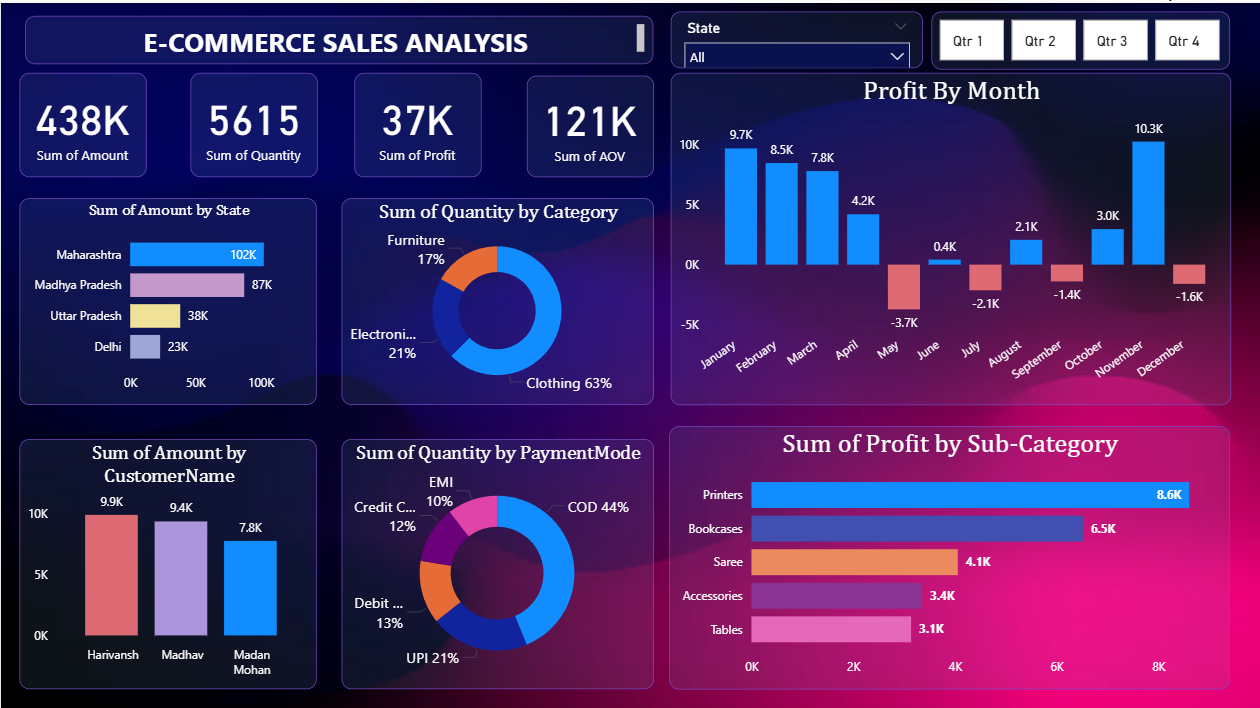

What the dashboard file says about the page in this screenshot:
{"tool":"powerbi","page":{"name":"Page 1","canvas":[1280,720],"ordinal":0},"visuals":[{"type":"textbox","box":[24.7,12.3,638.1,49.4],"z":0},{"type":"columnChart","title":"Profit By Month","fields":{"Category":["Orders.Order Date.Variation.Date Hierarchy.Month"],"Y":["Sum(Details.Profit)"]},"box":[680.6,71.4,569.5,337.6],"z":1000},{"type":"barChart","fields":{"Category":["Details.Sub-Category"],"Y":["Sum(Details.Profit)"]},"box":[679.2,429.5,569.5,267.6],"z":2000},{"type":"donutChart","fields":{"Category":["Details.Category"],"Y":["Sum(Details.Quantity)"]},"box":[345.8,199,317,209.9],"z":3000},{"type":"donutChart","fields":{"Y":["Sum(Details.Quantity)"],"Category":["Details.PaymentMode"]},"box":[345.8,443.2,317,253.9],"z":4000},{"type":"card","fields":{"Values":["Sum(Details.Amount)"]},"box":[19.2,71.4,129,105.7],"z":5000},{"type":"card","fields":{"Values":["Sum(Details.Quantity)"]},"box":[192.1,71.4,129,105.7],"z":6000},{"type":"card","fields":{"Values":["Sum(Details.Profit)"]},"box":[359.5,71.4,129,105.7],"z":7000},{"type":"card","fields":{"Values":["Sum(Details.AOV)"]},"box":[533.8,74.1,129,102.9],"z":8000},{"type":"barChart","fields":{"Category":["Orders.State"],"Y":["Sum(Details.Amount)"]},"box":[19.2,199,301.9,209.9],"z":9000},{"type":"columnChart","fields":{"Category":["Orders.CustomerName"],"Y":["Sum(Details.Amount)"]},"box":[19,443,302,254],"z":10000},{"type":"advancedSlicerVisual","fields":{"Values":["Orders.Order Date.Variation.Date Hierarchy.Quarter"]},"box":[945.5,8.2,303.3,59],"z":11000},{"type":"slicer","fields":{"Values":["Orders.State"]},"box":[680.2,8.7,256.2,57.9],"z":12000}]}

Visuals, with their boxes in screenshot pixels (x1, y1, x2, y2), scaled from the page's 1280x720 canvas onto the 1260x708 screenshot:
textbox: left=24, top=12, right=652, bottom=61
"Profit By Month" columnChart: left=670, top=70, right=1231, bottom=402
barChart - Details.Sub-Category x Sum(Details.Profit): left=669, top=422, right=1229, bottom=685
donutChart - Details.Category x Sum(Details.Quantity): left=340, top=196, right=652, bottom=402
donutChart - Sum(Details.Quantity) x Details.PaymentMode: left=340, top=436, right=652, bottom=685
card - Sum(Details.Amount): left=19, top=70, right=146, bottom=174
card - Sum(Details.Quantity): left=189, top=70, right=316, bottom=174
card - Sum(Details.Profit): left=354, top=70, right=481, bottom=174
card - Sum(Details.AOV): left=525, top=73, right=652, bottom=174
barChart - Orders.State x Sum(Details.Amount): left=19, top=196, right=316, bottom=402
columnChart - Orders.CustomerName x Sum(Details.Amount): left=19, top=436, right=316, bottom=685
advancedSlicerVisual - Orders.Order Date.Variation.Date Hierarchy.Quarter: left=931, top=8, right=1229, bottom=66
slicer - Orders.State: left=670, top=9, right=922, bottom=65
